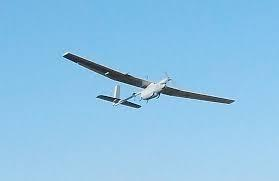Airplane: (60, 48, 241, 117)
